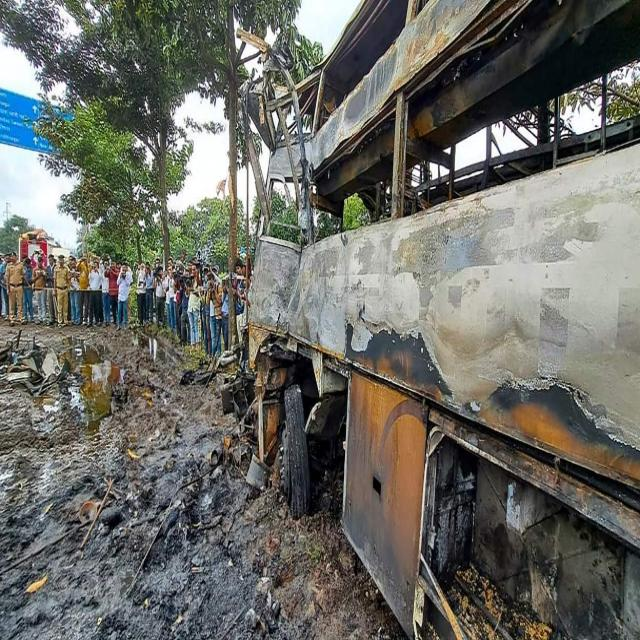accident: (241, 0, 640, 635)
